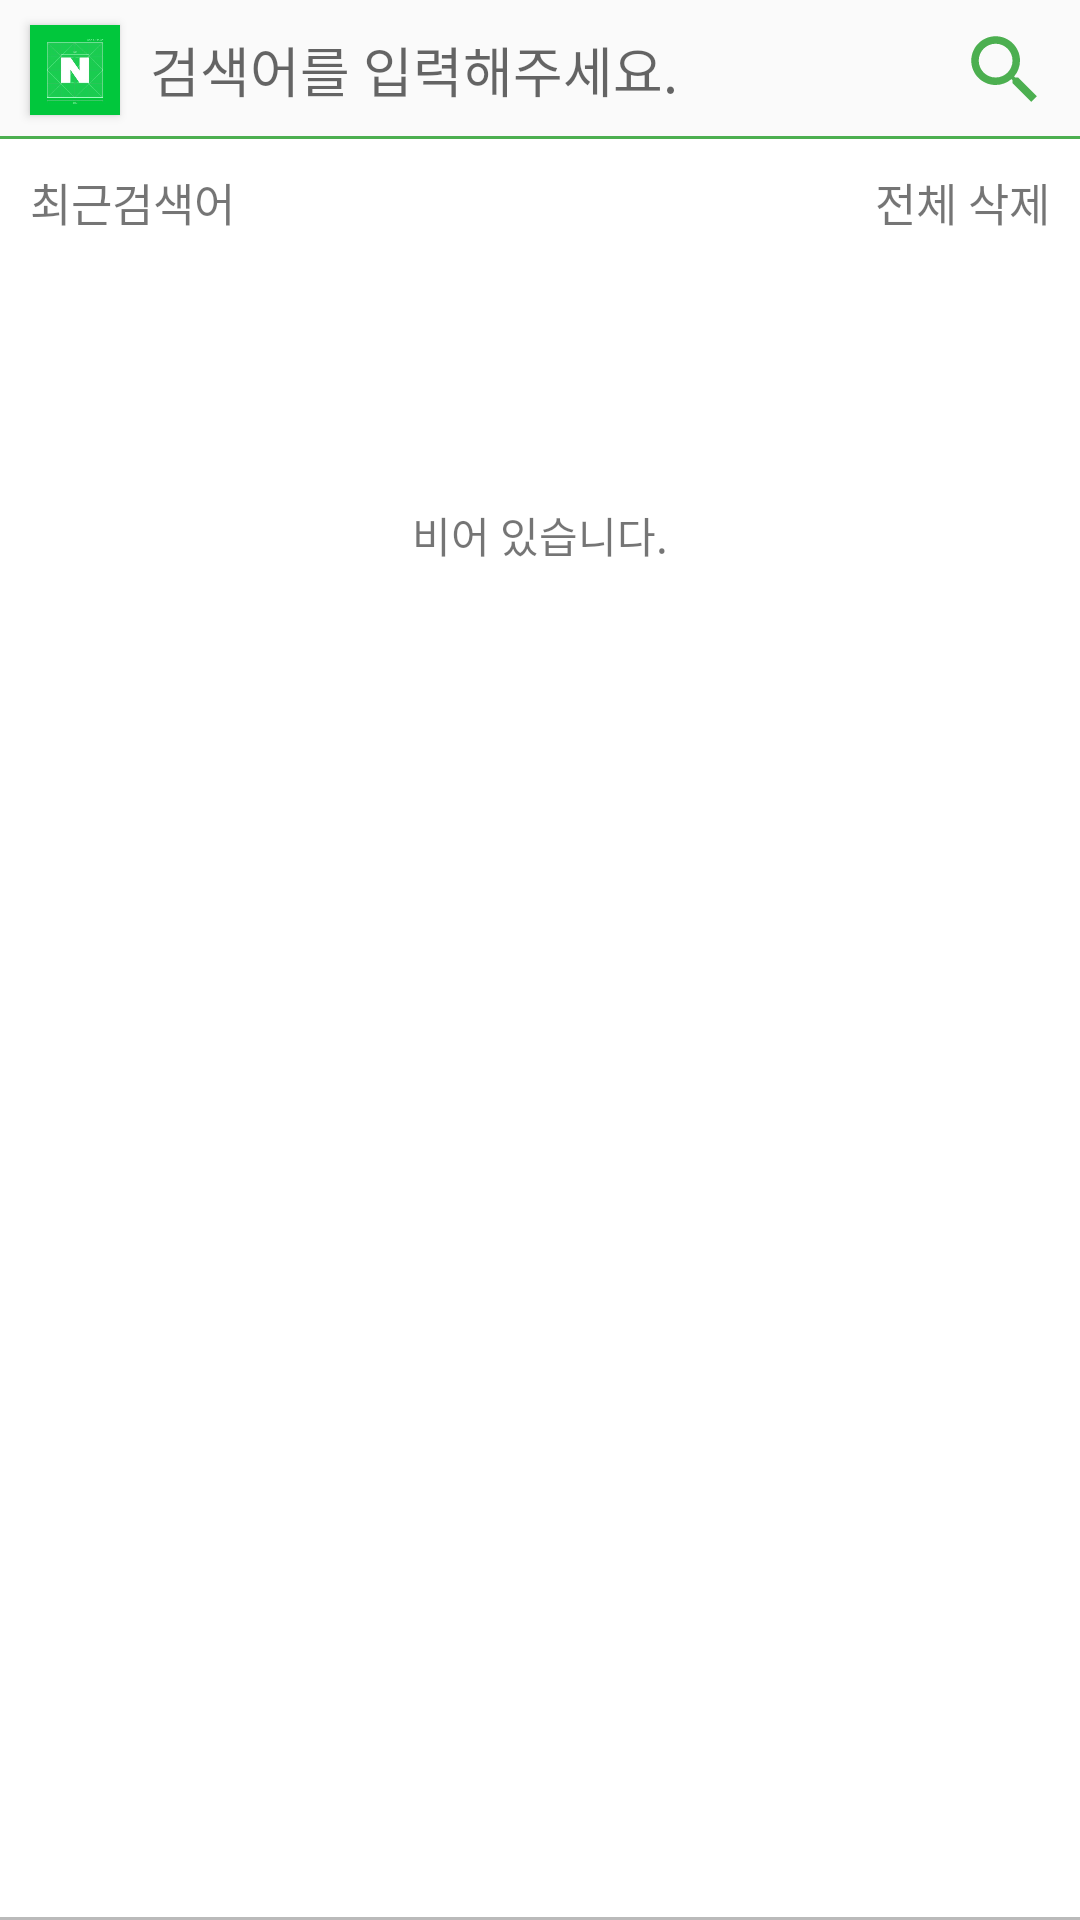

Where icons sit on this 1080 × 1920 app screen, as (x1, y1, x2, y2):
search: (971, 36, 1037, 102)
